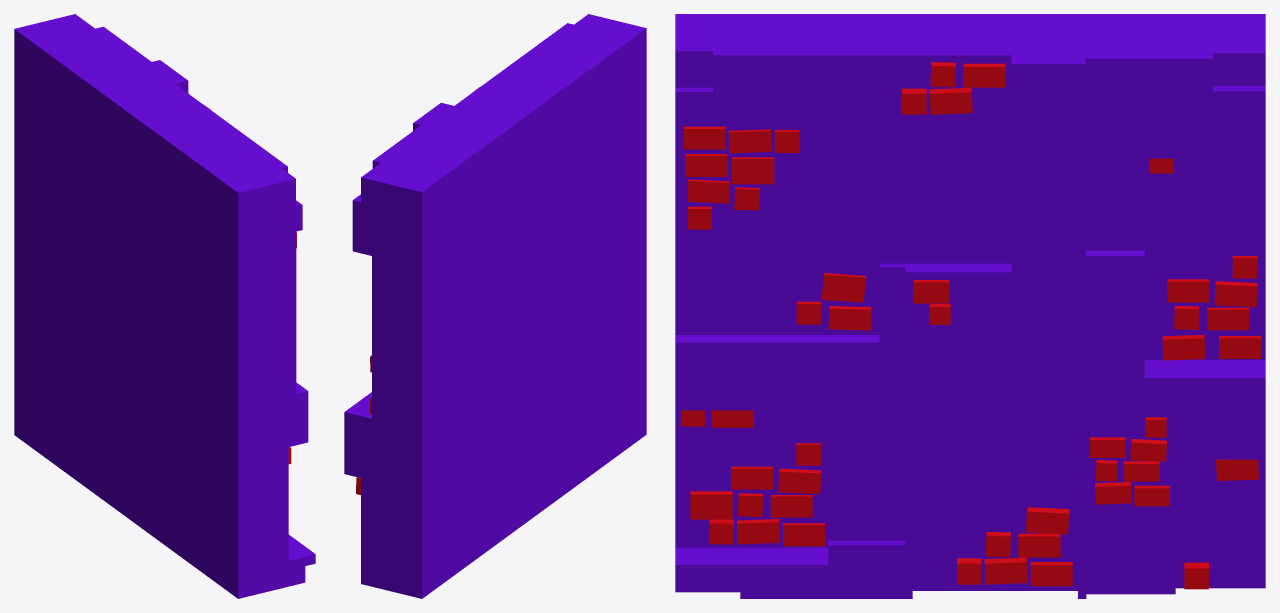
File: wall.fbx
3 views of the same model, side by side, from view 1: azimuth 30°, elevation 25°; view 2: azimuth 150°, elevation 25°; view 3: azimuth 270°, elevation 25° (orthographic). The views are drawn at different scales.
Parts seen in each view (by area): view 1: Wall.001; view 2: Wall.001; view 3: Wall.001.
Boxes of the visible parts, x1=… form: Wall.001: x1=14, y1=14, x2=315, y2=598; Wall.001: x1=344, y1=14, x2=646, y2=598; Wall.001: x1=675, y1=14, x2=1265, y2=598.
Bounding box in the file's own units: 215 × 1000 × 1000.
